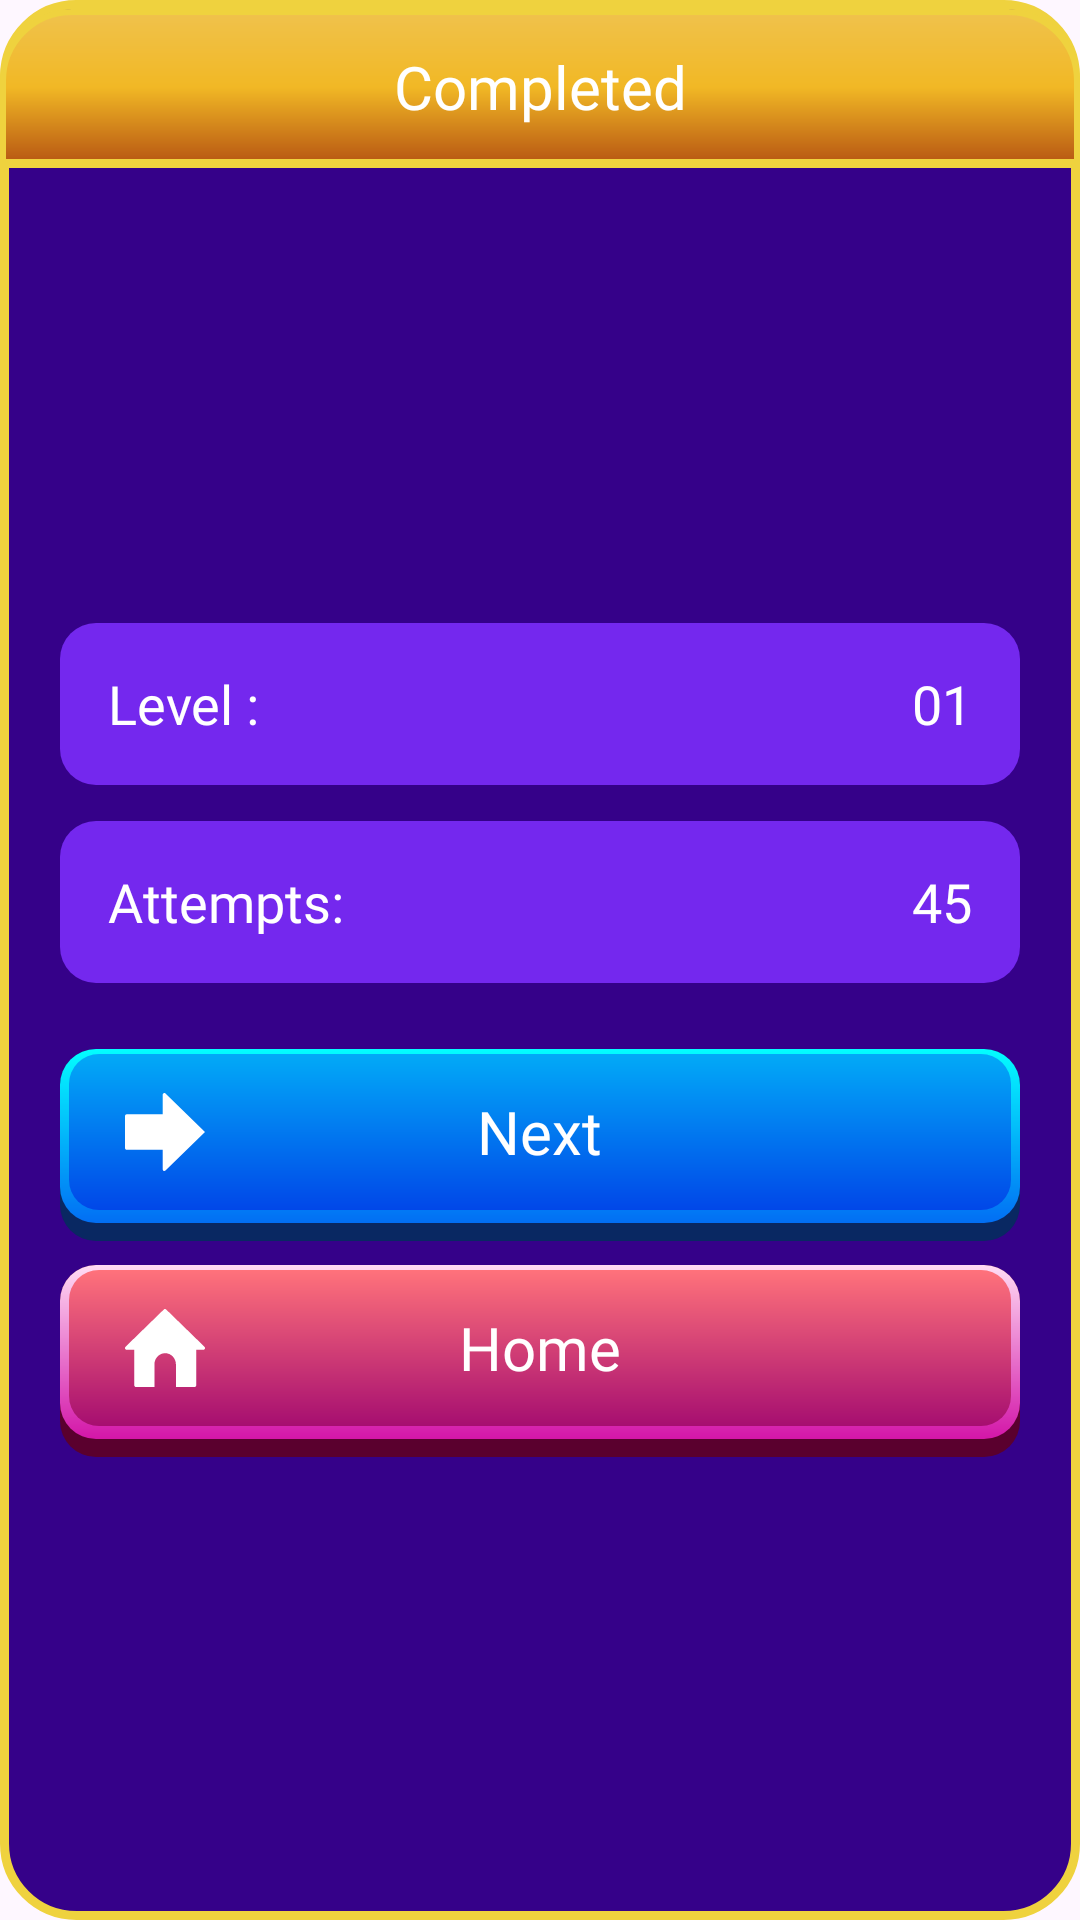

Where to tap for icons on this 1080px x 1920px app screen, as point (x, y):
home: point (165, 1348)
next: point (165, 1132)
